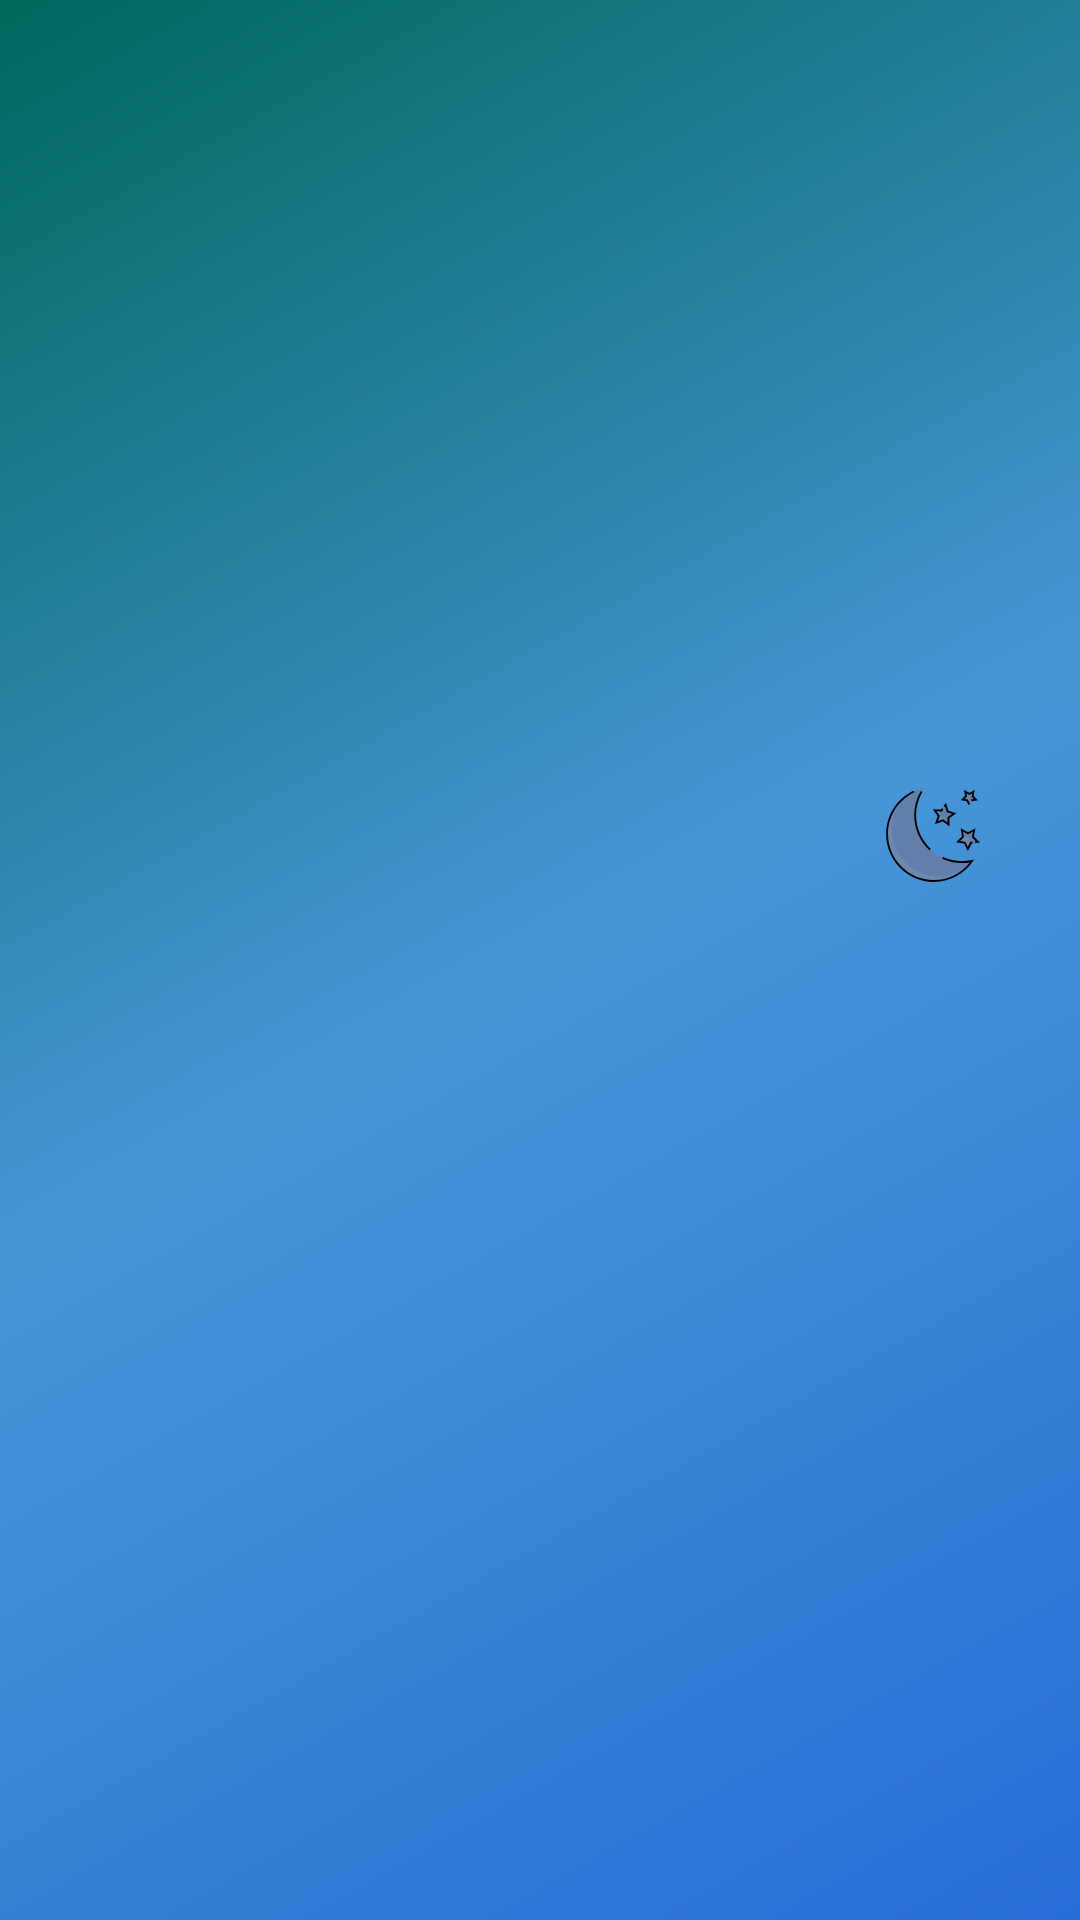

Locate icon controls on the screen. Image size 1080x1920, boxes as {"left": x1, "top": y1, "right": x2, "bottom": y2}.
stars moon: {"left": 886, "top": 788, "right": 980, "bottom": 882}
